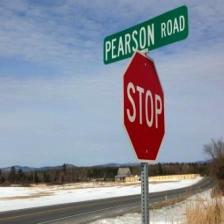Stop: (119, 53, 164, 162)
